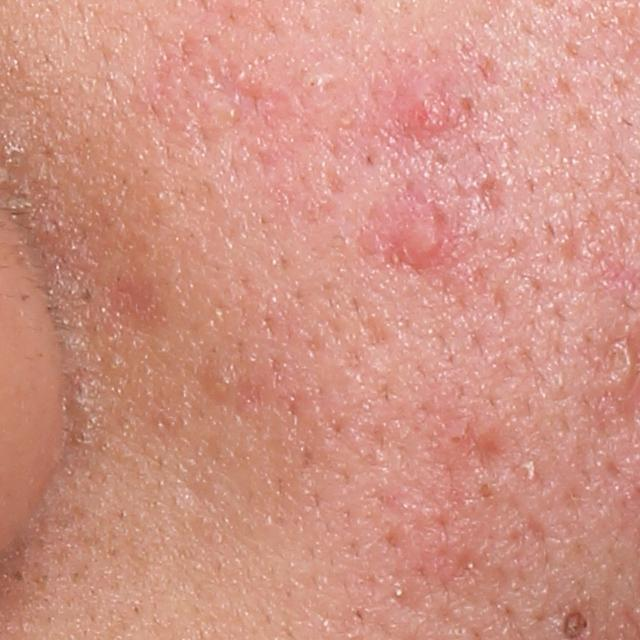atrophic_scar: (476, 411, 524, 483)
papule: (388, 202, 451, 268), (401, 86, 456, 136)
